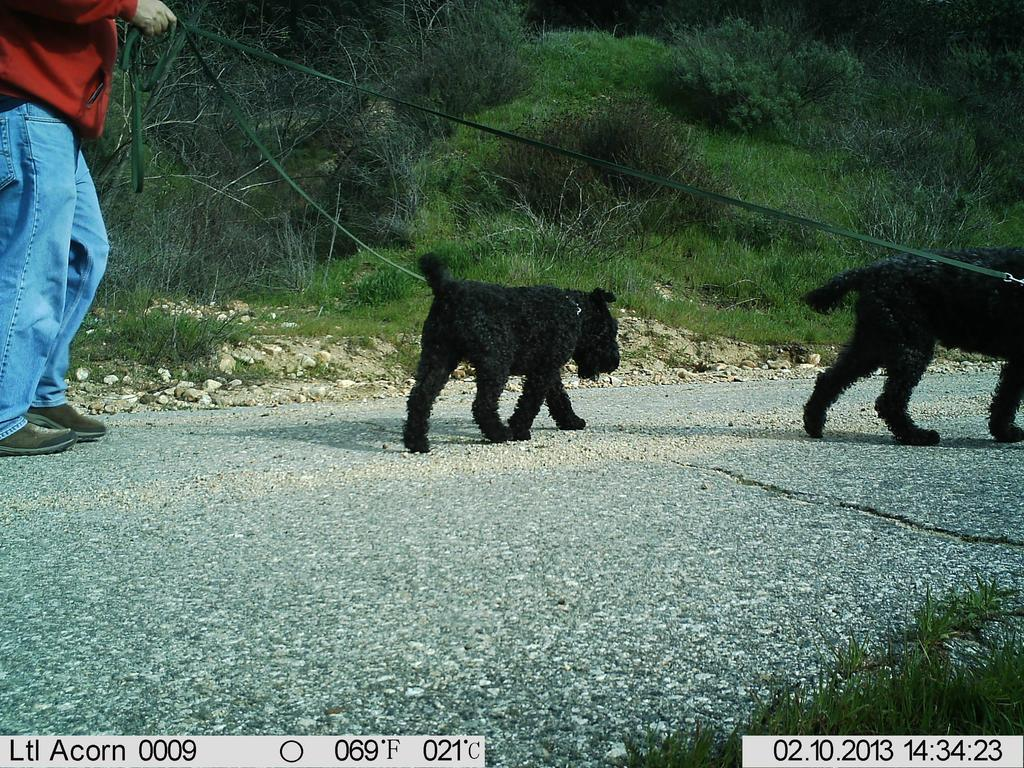dog: (397, 249, 637, 463), (790, 229, 1019, 453)
